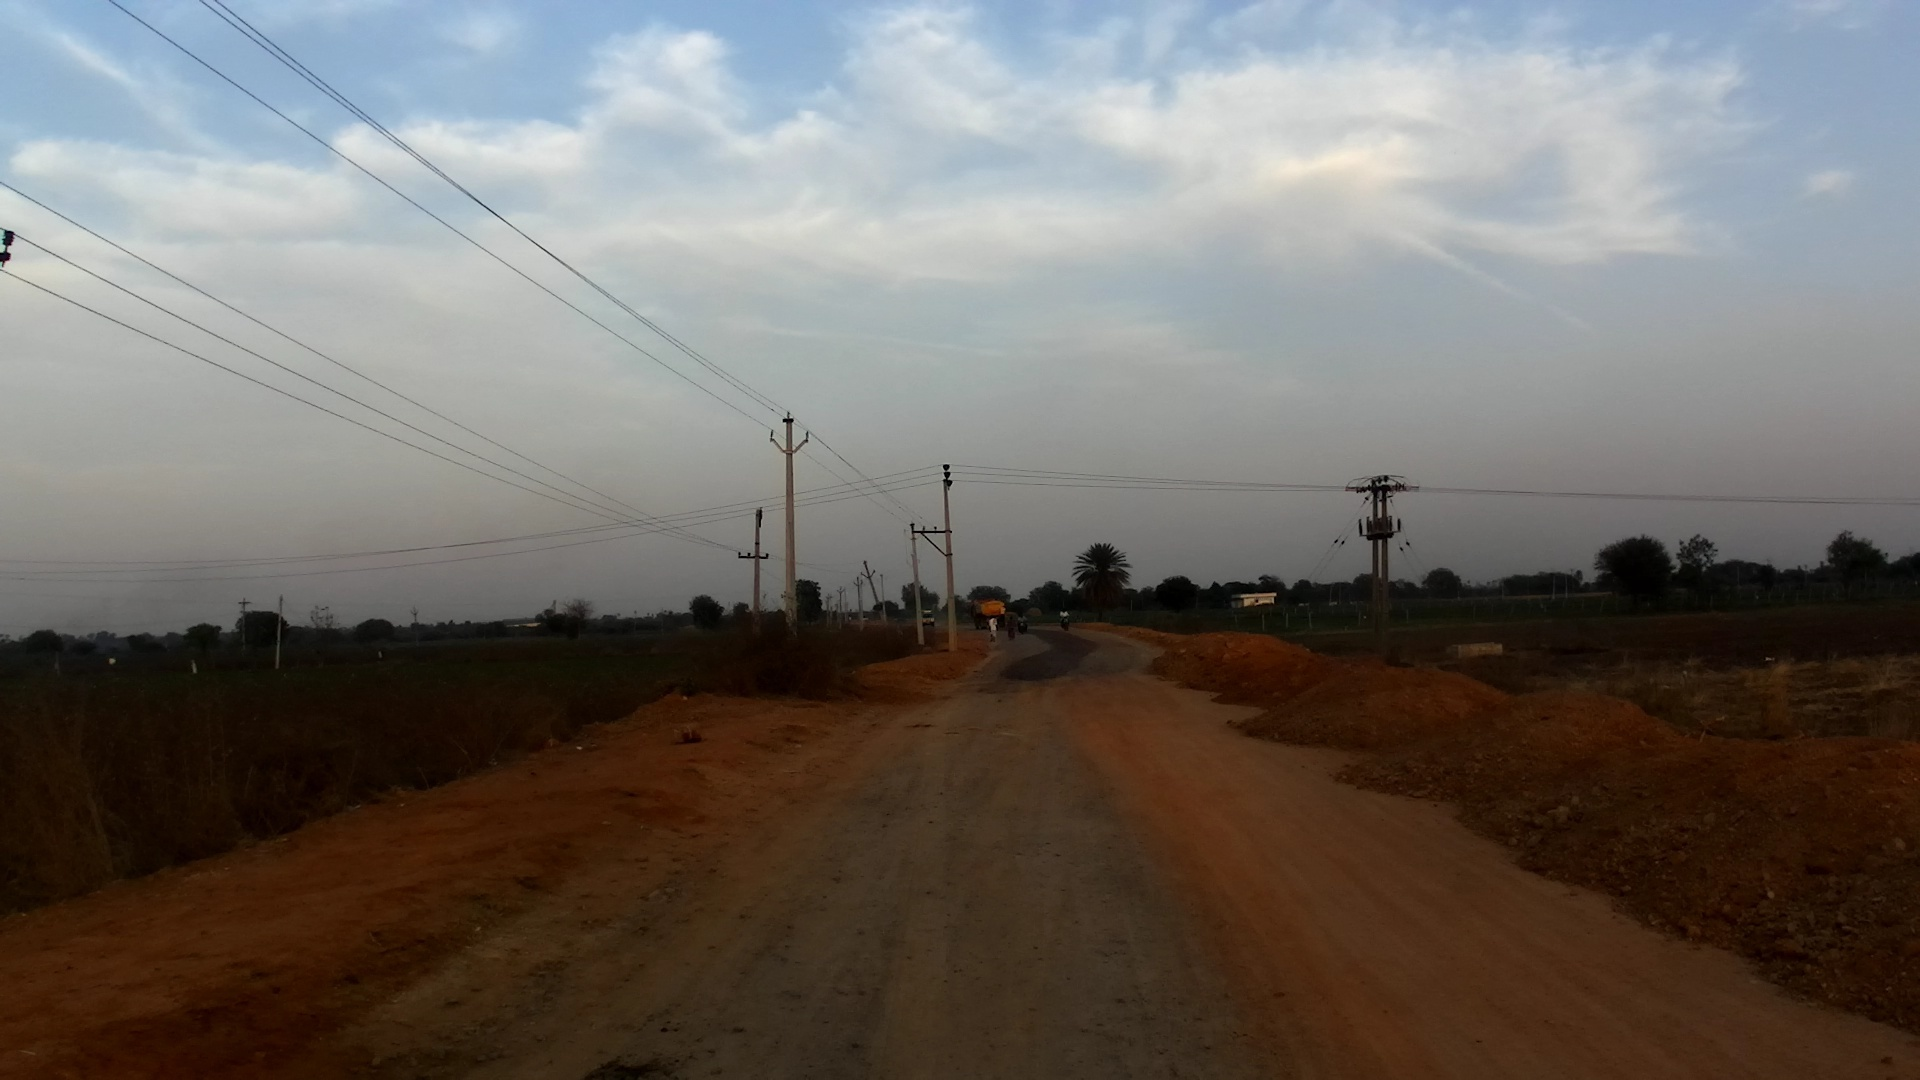motorcycle: (1057, 617, 1076, 636), (1017, 623, 1030, 636)
person: (1003, 611, 1017, 645), (985, 617, 999, 648)
rider: (1055, 605, 1072, 630), (1016, 615, 1030, 628)
truck: (971, 599, 1007, 635)
vehicle fallback: (919, 609, 935, 627)
